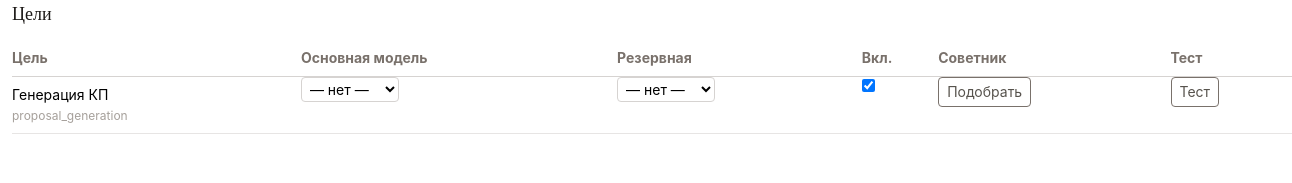
Test: PurposesSection › shows 503 hint when router not configured
Expected: the text "Генерация КП" is shown, [12,86,108,103]
Click the button "Подобрать". click: click(985, 92)
box: [938,77,1031,107]
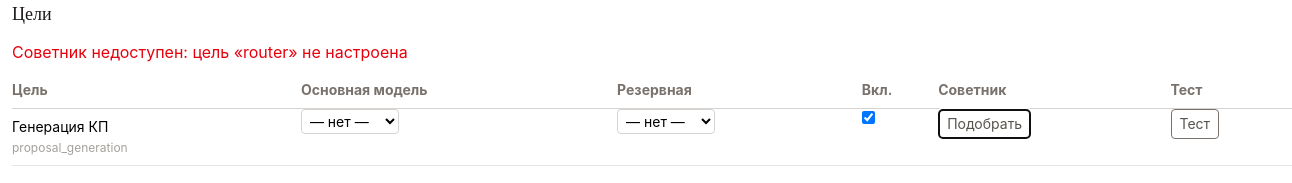
Result: the text "Советник недоступен: цель «router» не настроена" is shown at [12,42,408,62]
